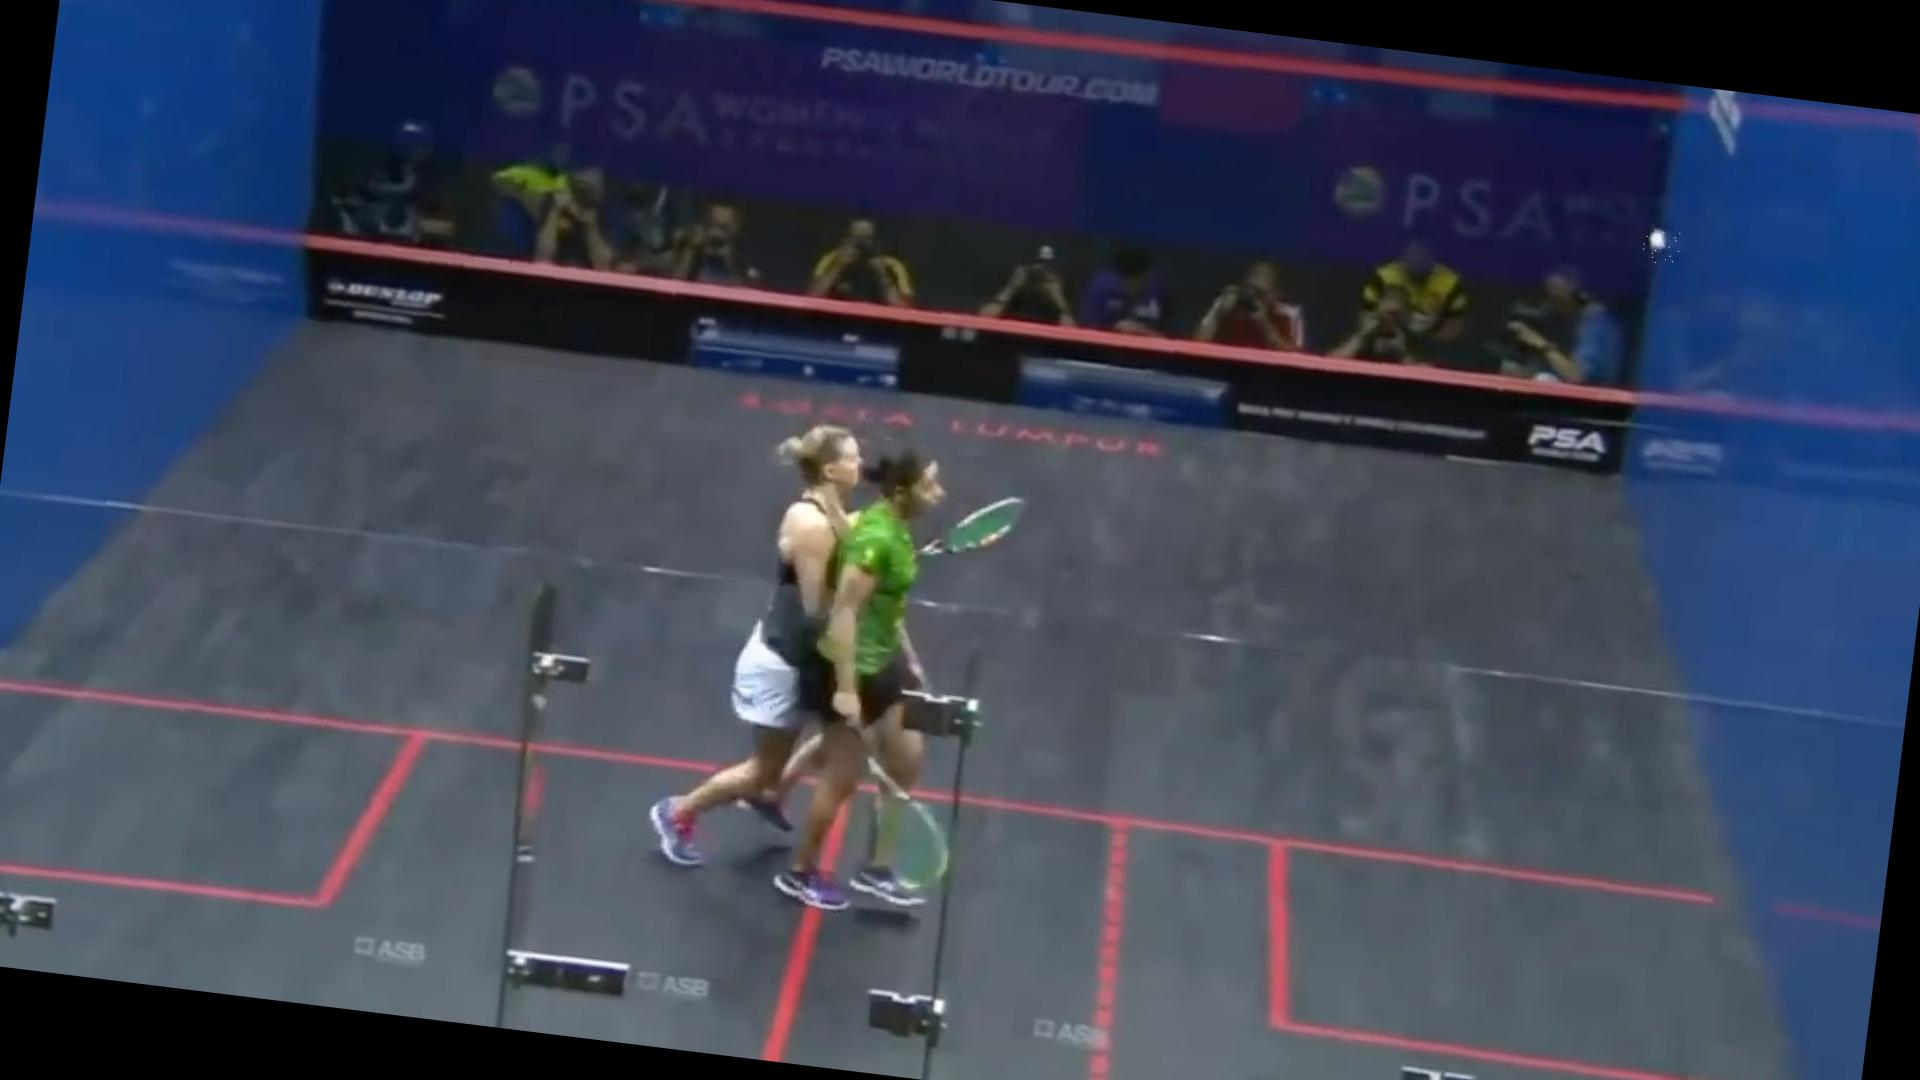Squash-Ball: (1639, 222, 1683, 266)
